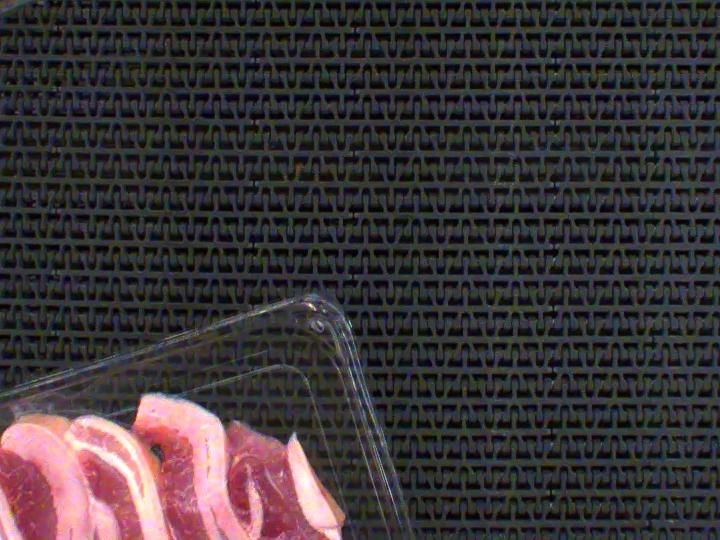packaging-error: (0, 392, 84, 424)
